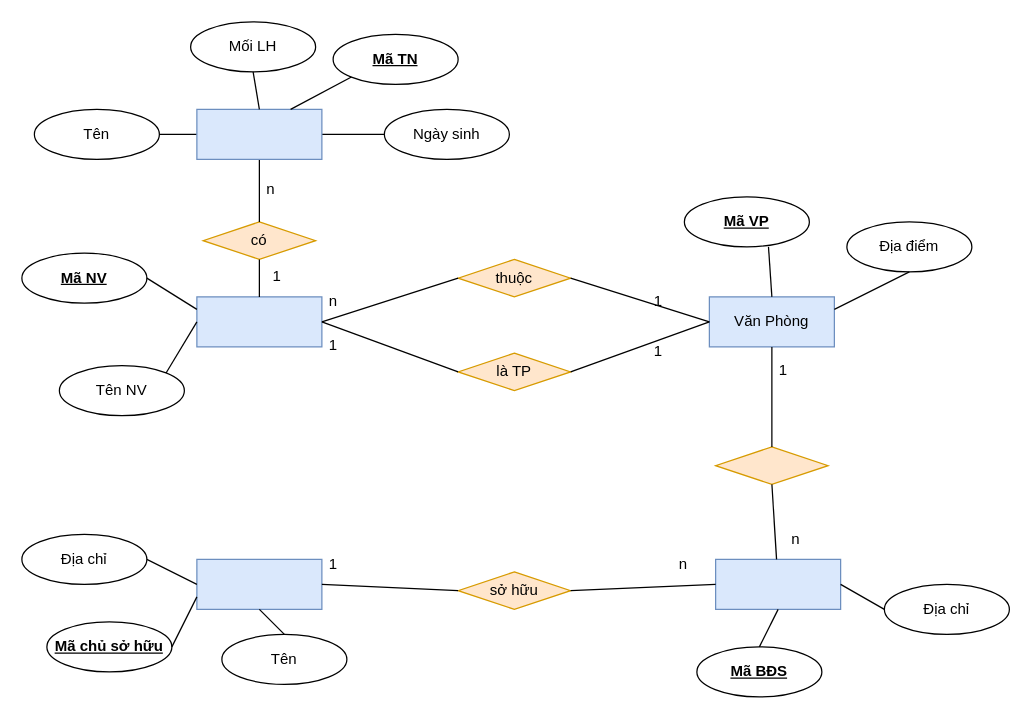
The diagram is 1031 pixels wide and 719 high, and some of its shapes have lost their labels. The centre of each missing label's shape, as x and y in pixels:
"Chủ sở hữu" goes at (x=259, y=583).
"Nhân Viên" goes at (x=259, y=321).
"rao bán" goes at (x=771, y=465).
"Sản phẩm BĐS" goes at (x=777, y=583).
"Thân Nhân" goes at (x=259, y=133).
